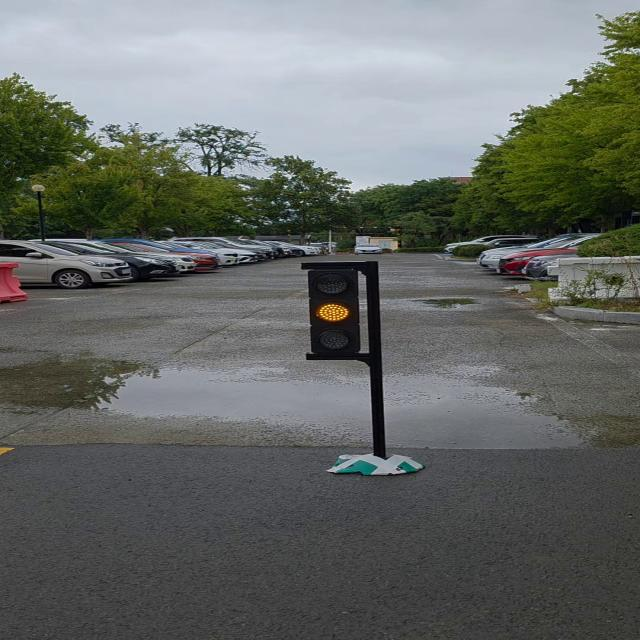yellow: (307, 264, 363, 358)
